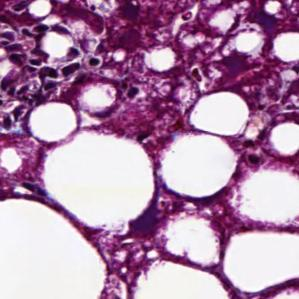inflammation: (0, 29, 59, 95), (111, 3, 155, 50)
